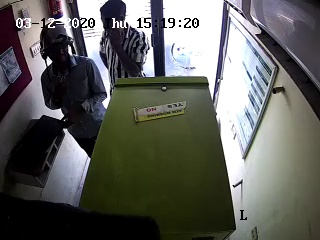helmet: (35, 21, 78, 70)
